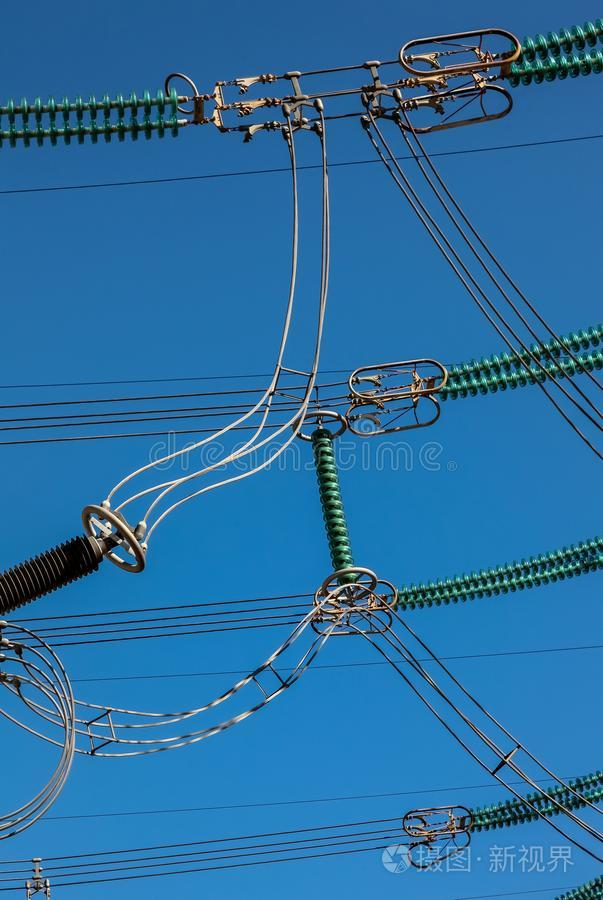insulator: (394, 536, 603, 615), (432, 323, 603, 408), (1, 87, 188, 159), (470, 776, 603, 835), (310, 428, 358, 583), (506, 20, 603, 86)
